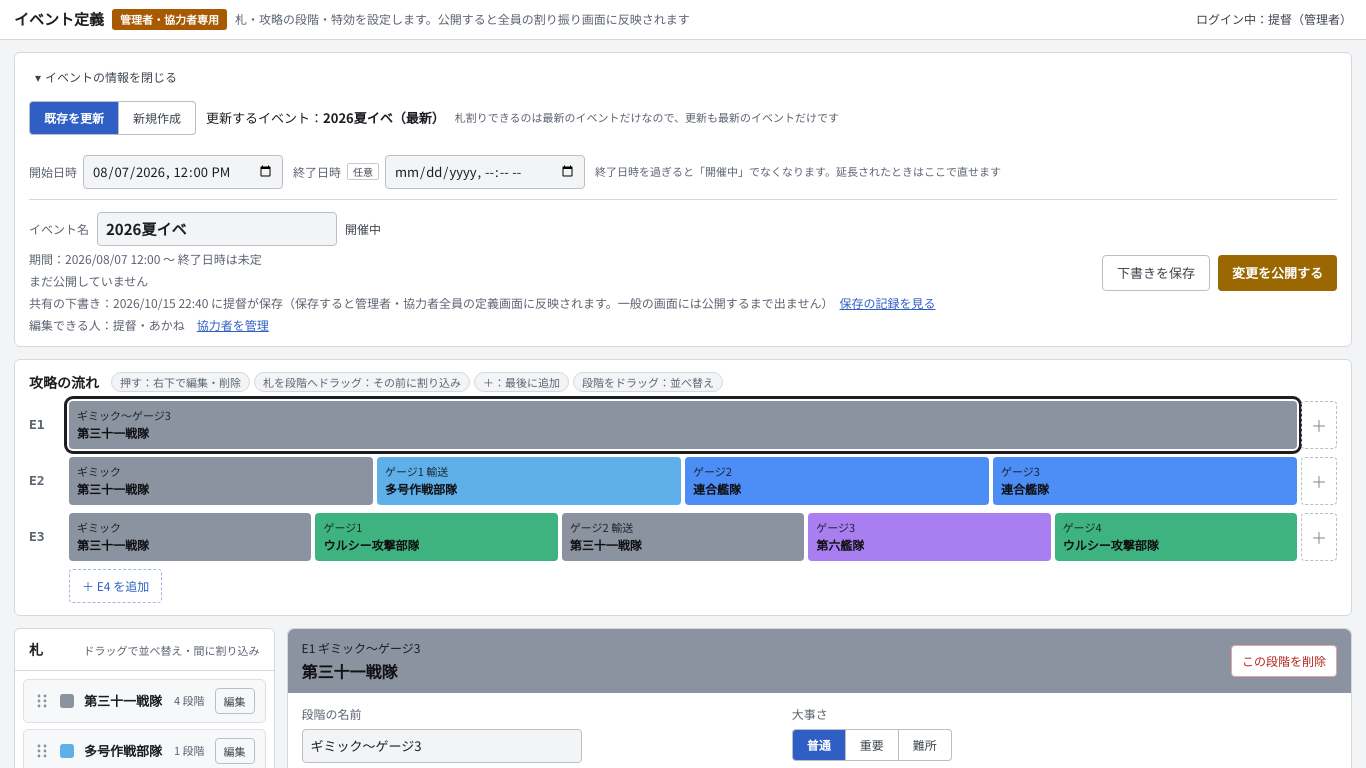
Test: 定義のページへの編集中・保存の記録の差し込み（DefinitionPageContent） › 管理者が開いたとき › 「保存の記録を見る」で、save_logs から読んだ記録をウィンドウに出す
This screenshot has width=1366, height=768.
expect the element "攻略の流れ" is shown: met, box [14,358,1352,616]
Click the button "保存の記録を見る" at (888, 302), box [840,294,936,310]
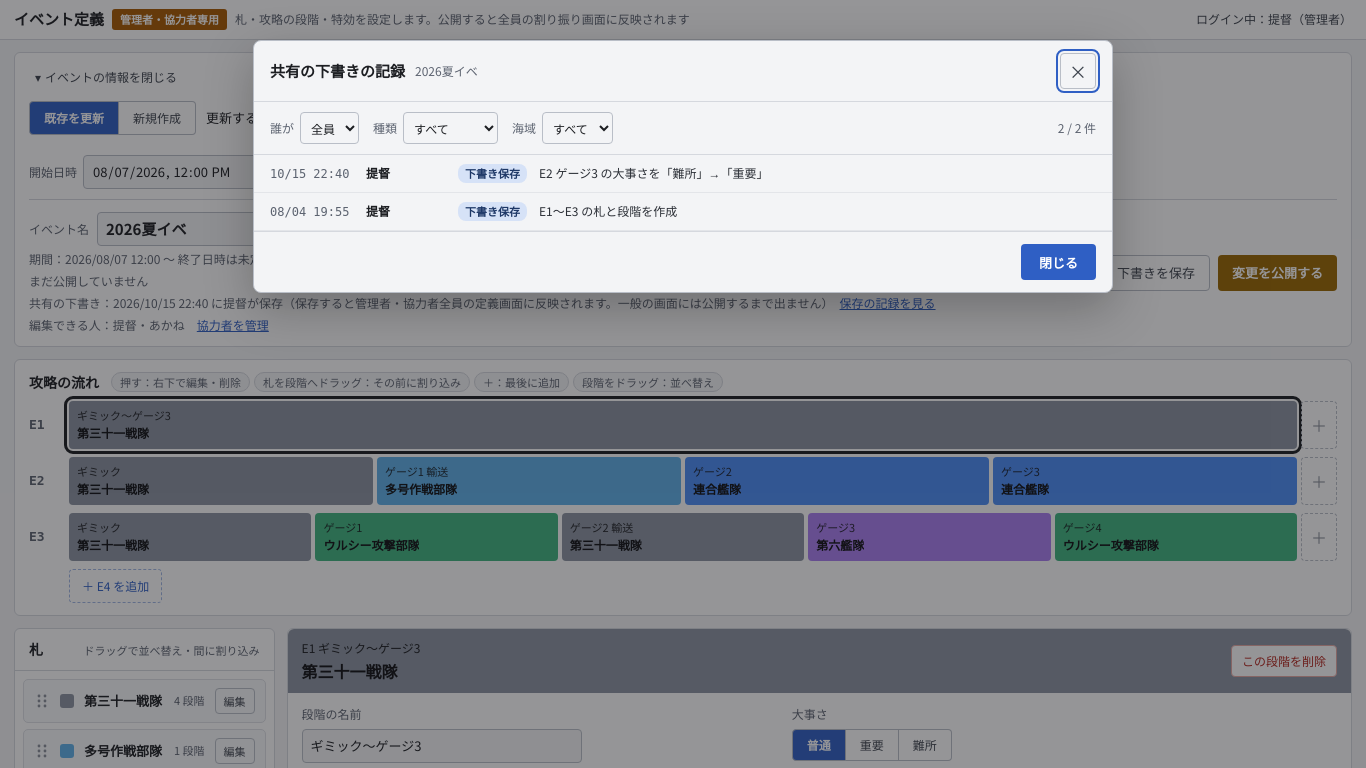
expect the text "E2 ゲージ3 の大事さを「難所」→「重要」" is shown: met, box [539,164,768,181]
expect the text "E1〜E3 の札と段階を作成" is shown: met, box [539,202,677,219]
